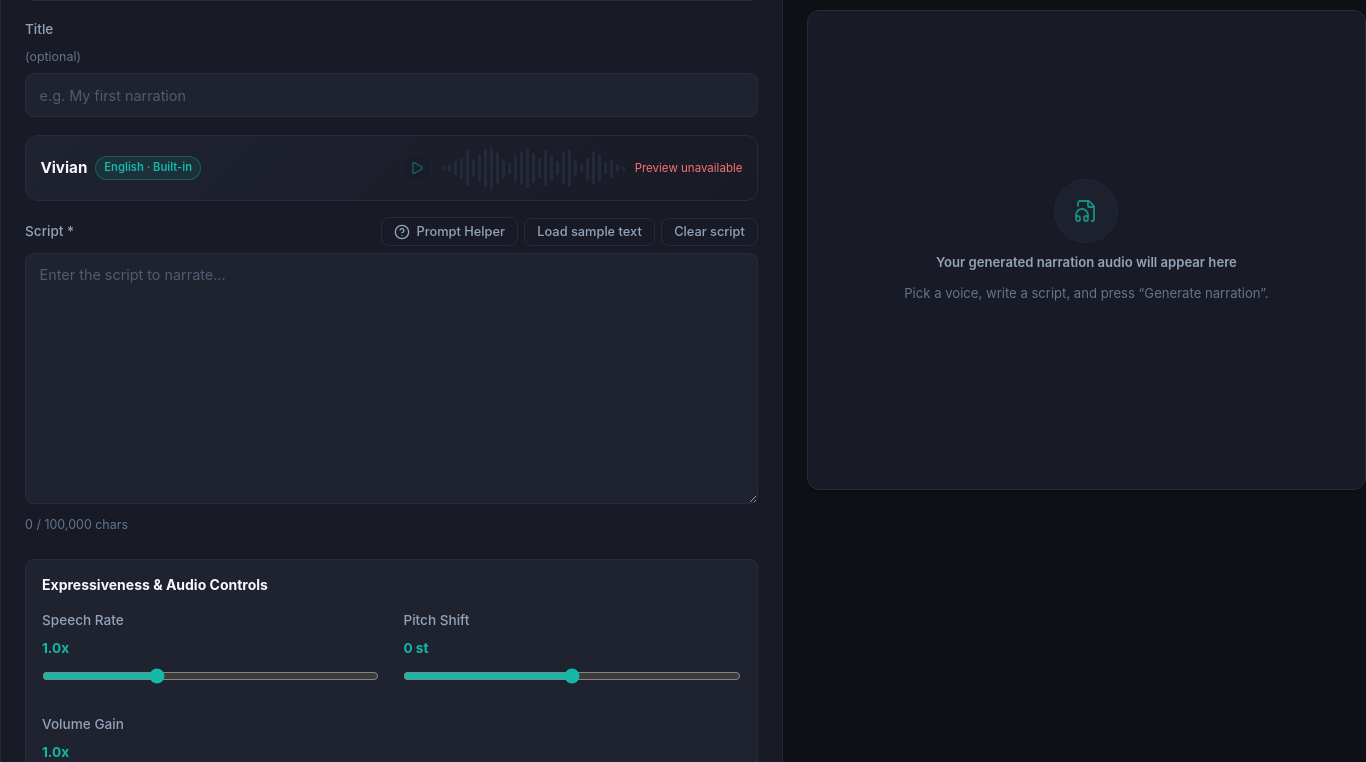
Test: BuiltinVoicesPage — generate button unlocks on job completion › "Clear script" empties the textarea
(page scrolled)
Type "To be cleared" into the text box labelled "Script *" at (391, 378), box [25, 253, 758, 504]
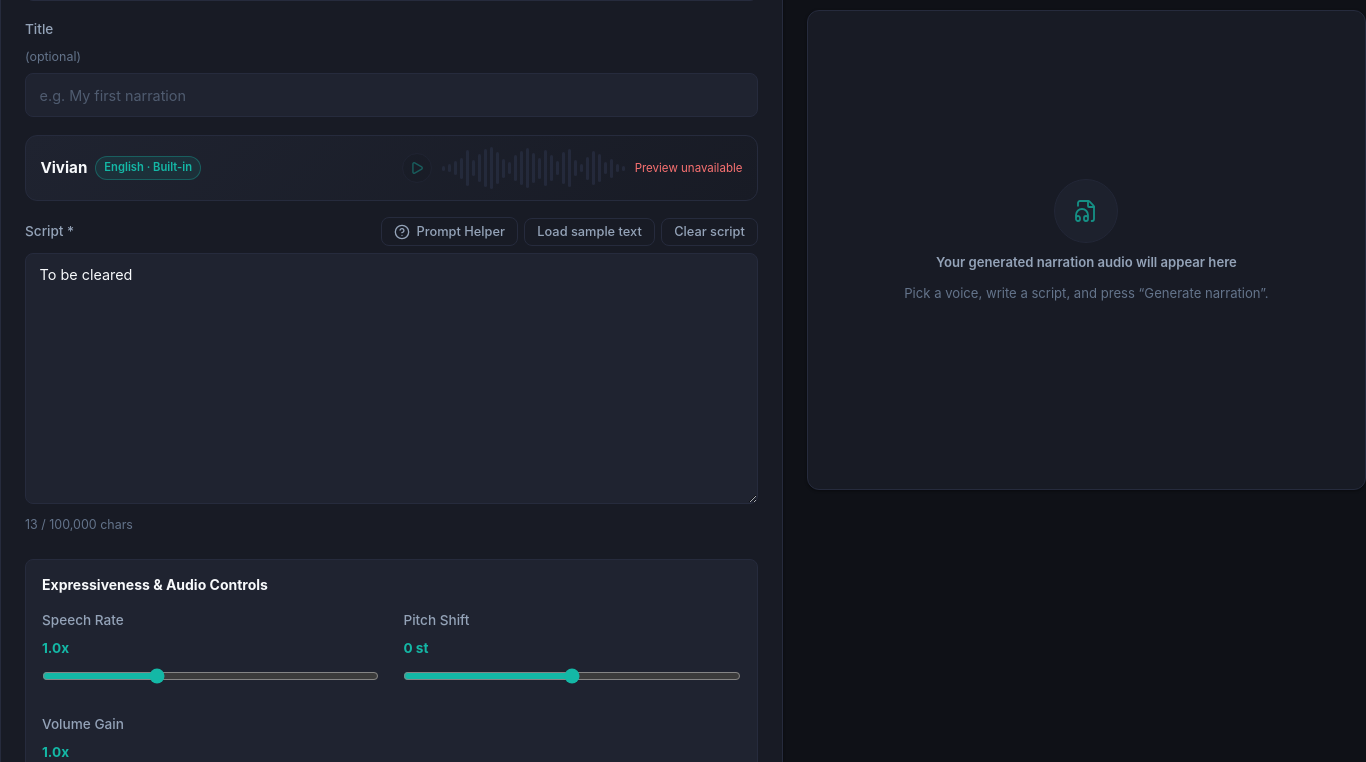
Click the button with aria-label "Clear script text" at (709, 232), box [661, 218, 758, 246]
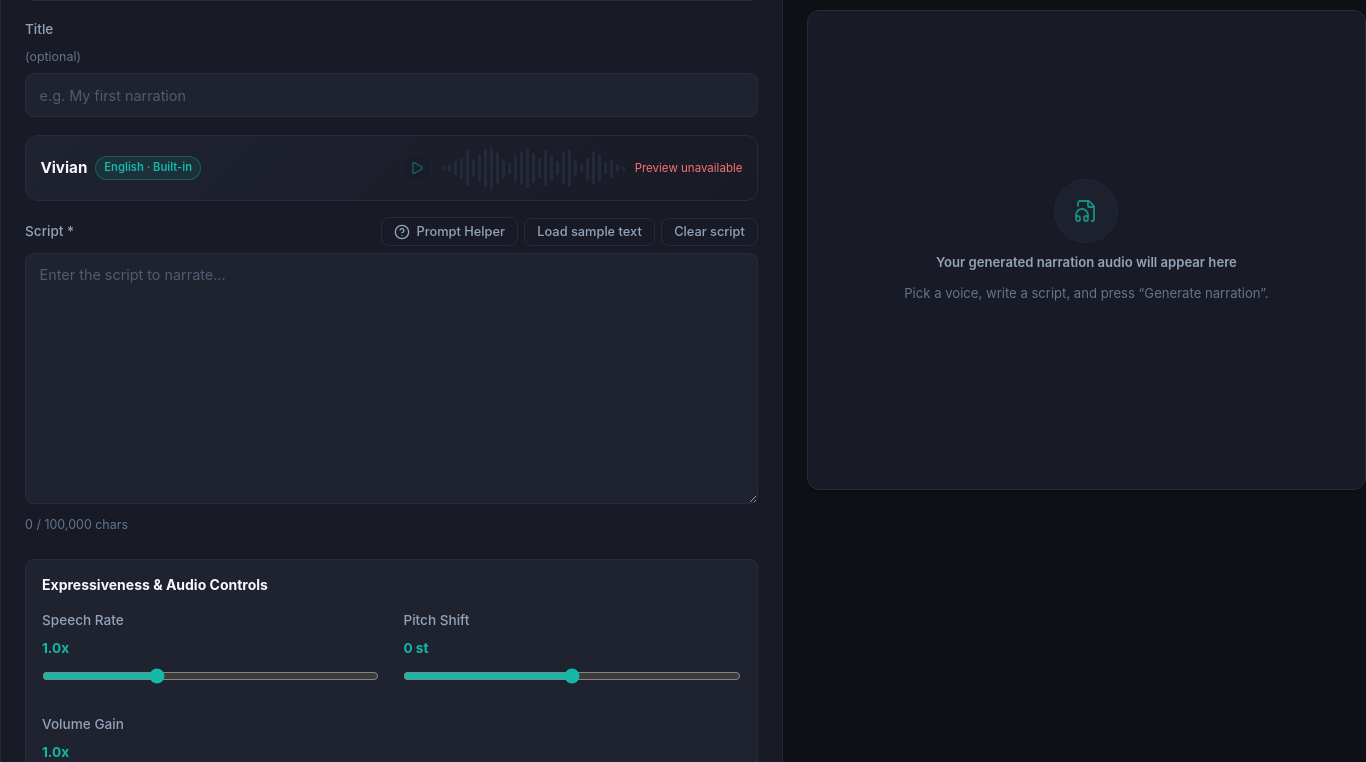
expect the text box labelled "Script *" is empty: met, box [25, 253, 758, 504]
